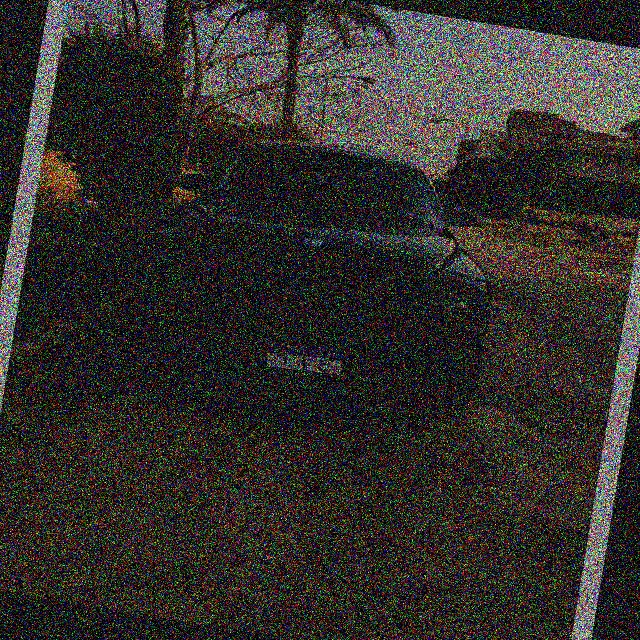License Plate: (260, 335, 348, 382)
